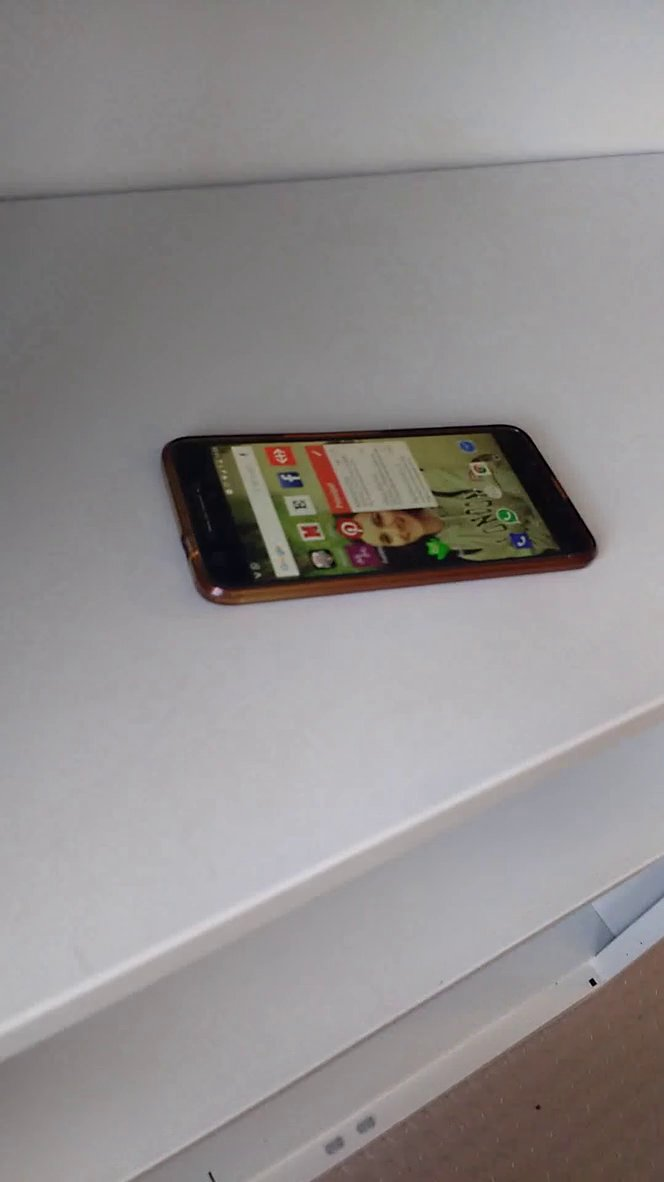phone: (151, 408, 608, 620)
